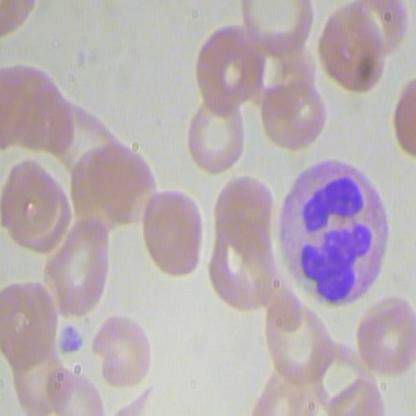Platelets: (56, 325, 86, 360)
RBC: (31, 211, 116, 322), (1, 154, 75, 257), (315, 2, 392, 99), (259, 290, 333, 386), (193, 18, 267, 114), (141, 185, 207, 287), (89, 305, 158, 393), (258, 71, 329, 153), (350, 295, 415, 384), (182, 91, 248, 177), (1, 276, 59, 370)
WBC: (268, 153, 398, 308)
